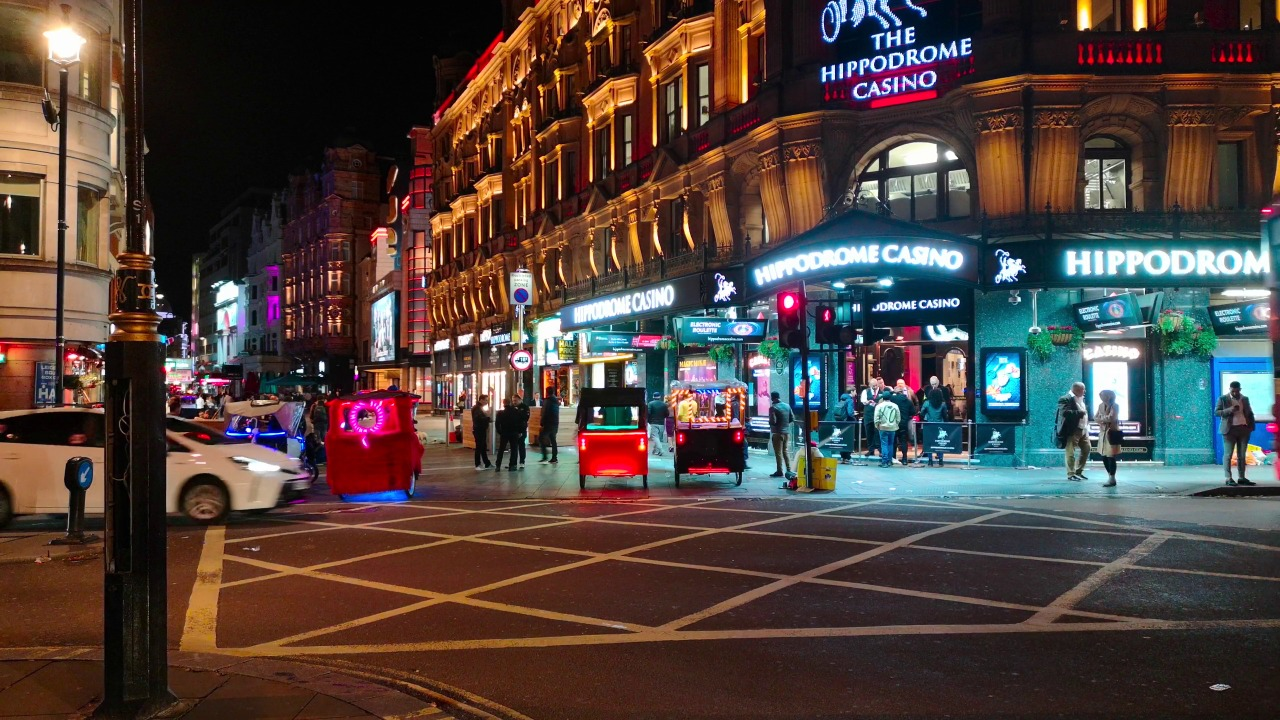car: (1, 413, 315, 537), (324, 386, 426, 500), (666, 383, 745, 488), (577, 385, 650, 494), (230, 393, 312, 442)
person: (1216, 374, 1258, 488), (1058, 382, 1093, 483), (1094, 387, 1126, 490), (765, 390, 791, 478), (538, 384, 564, 464), (832, 386, 856, 467), (471, 392, 493, 472), (878, 391, 900, 469), (925, 396, 947, 471), (859, 380, 879, 451), (511, 396, 529, 472), (649, 392, 669, 456), (795, 440, 821, 489), (499, 399, 514, 470), (925, 376, 951, 391), (893, 381, 910, 398)
